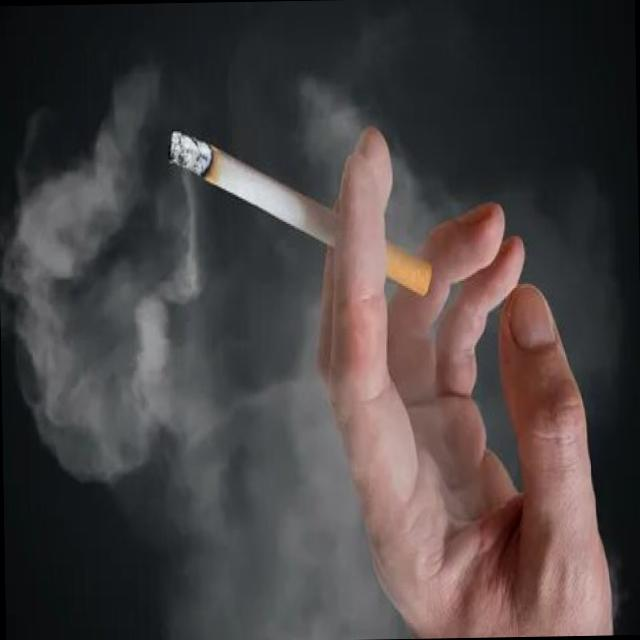smoke: (164, 120, 433, 306)
